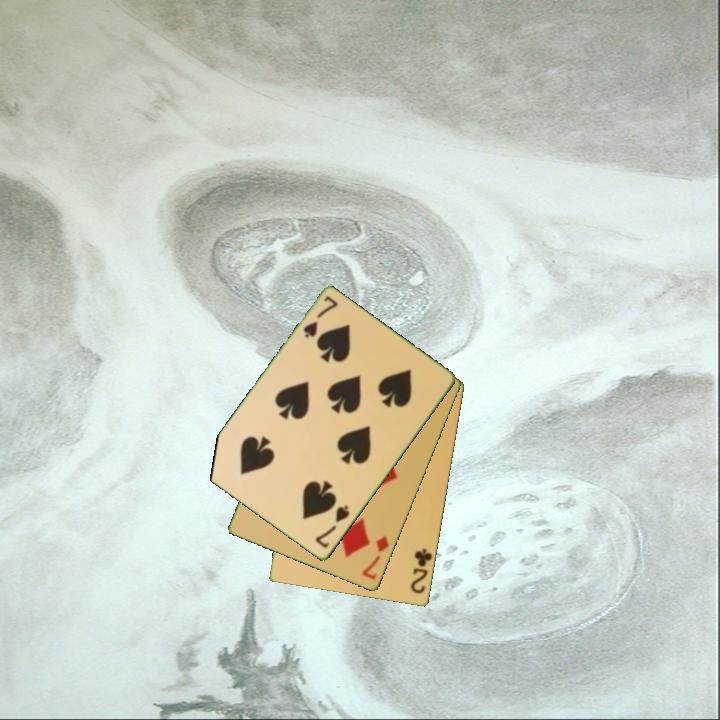2c: (407, 545, 435, 597)
7d: (358, 532, 392, 583)
7s: (311, 502, 353, 552), (300, 293, 341, 341)
